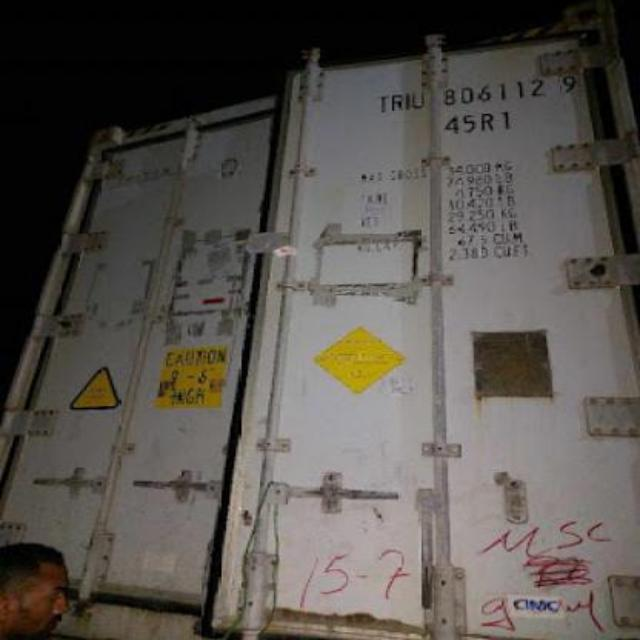0: (456, 82, 474, 108)
1: (512, 70, 528, 102), (494, 80, 510, 104)
2: (526, 74, 548, 100)
6: (474, 81, 494, 102)
8: (440, 85, 456, 108)
9: (560, 66, 582, 96)
I: (402, 89, 412, 115)
R: (388, 90, 402, 114)
T: (374, 88, 390, 116)
U: (412, 86, 424, 112)
